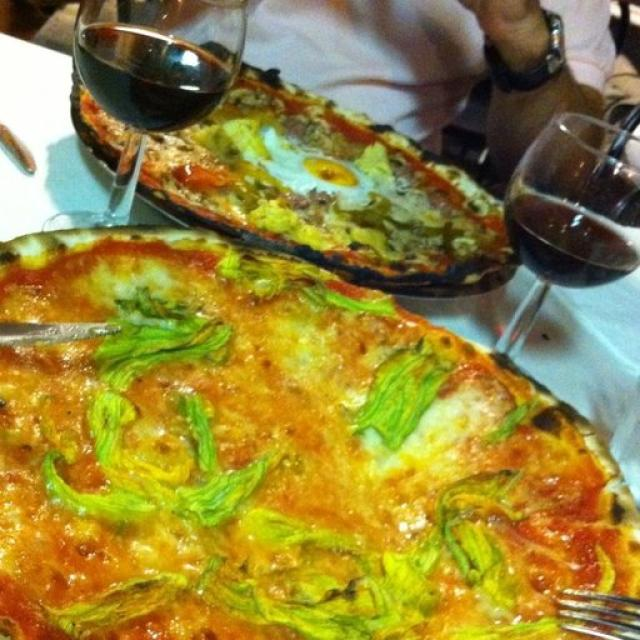Pizza: (0, 228, 640, 640), (141, 60, 514, 286), (65, 66, 128, 167)
